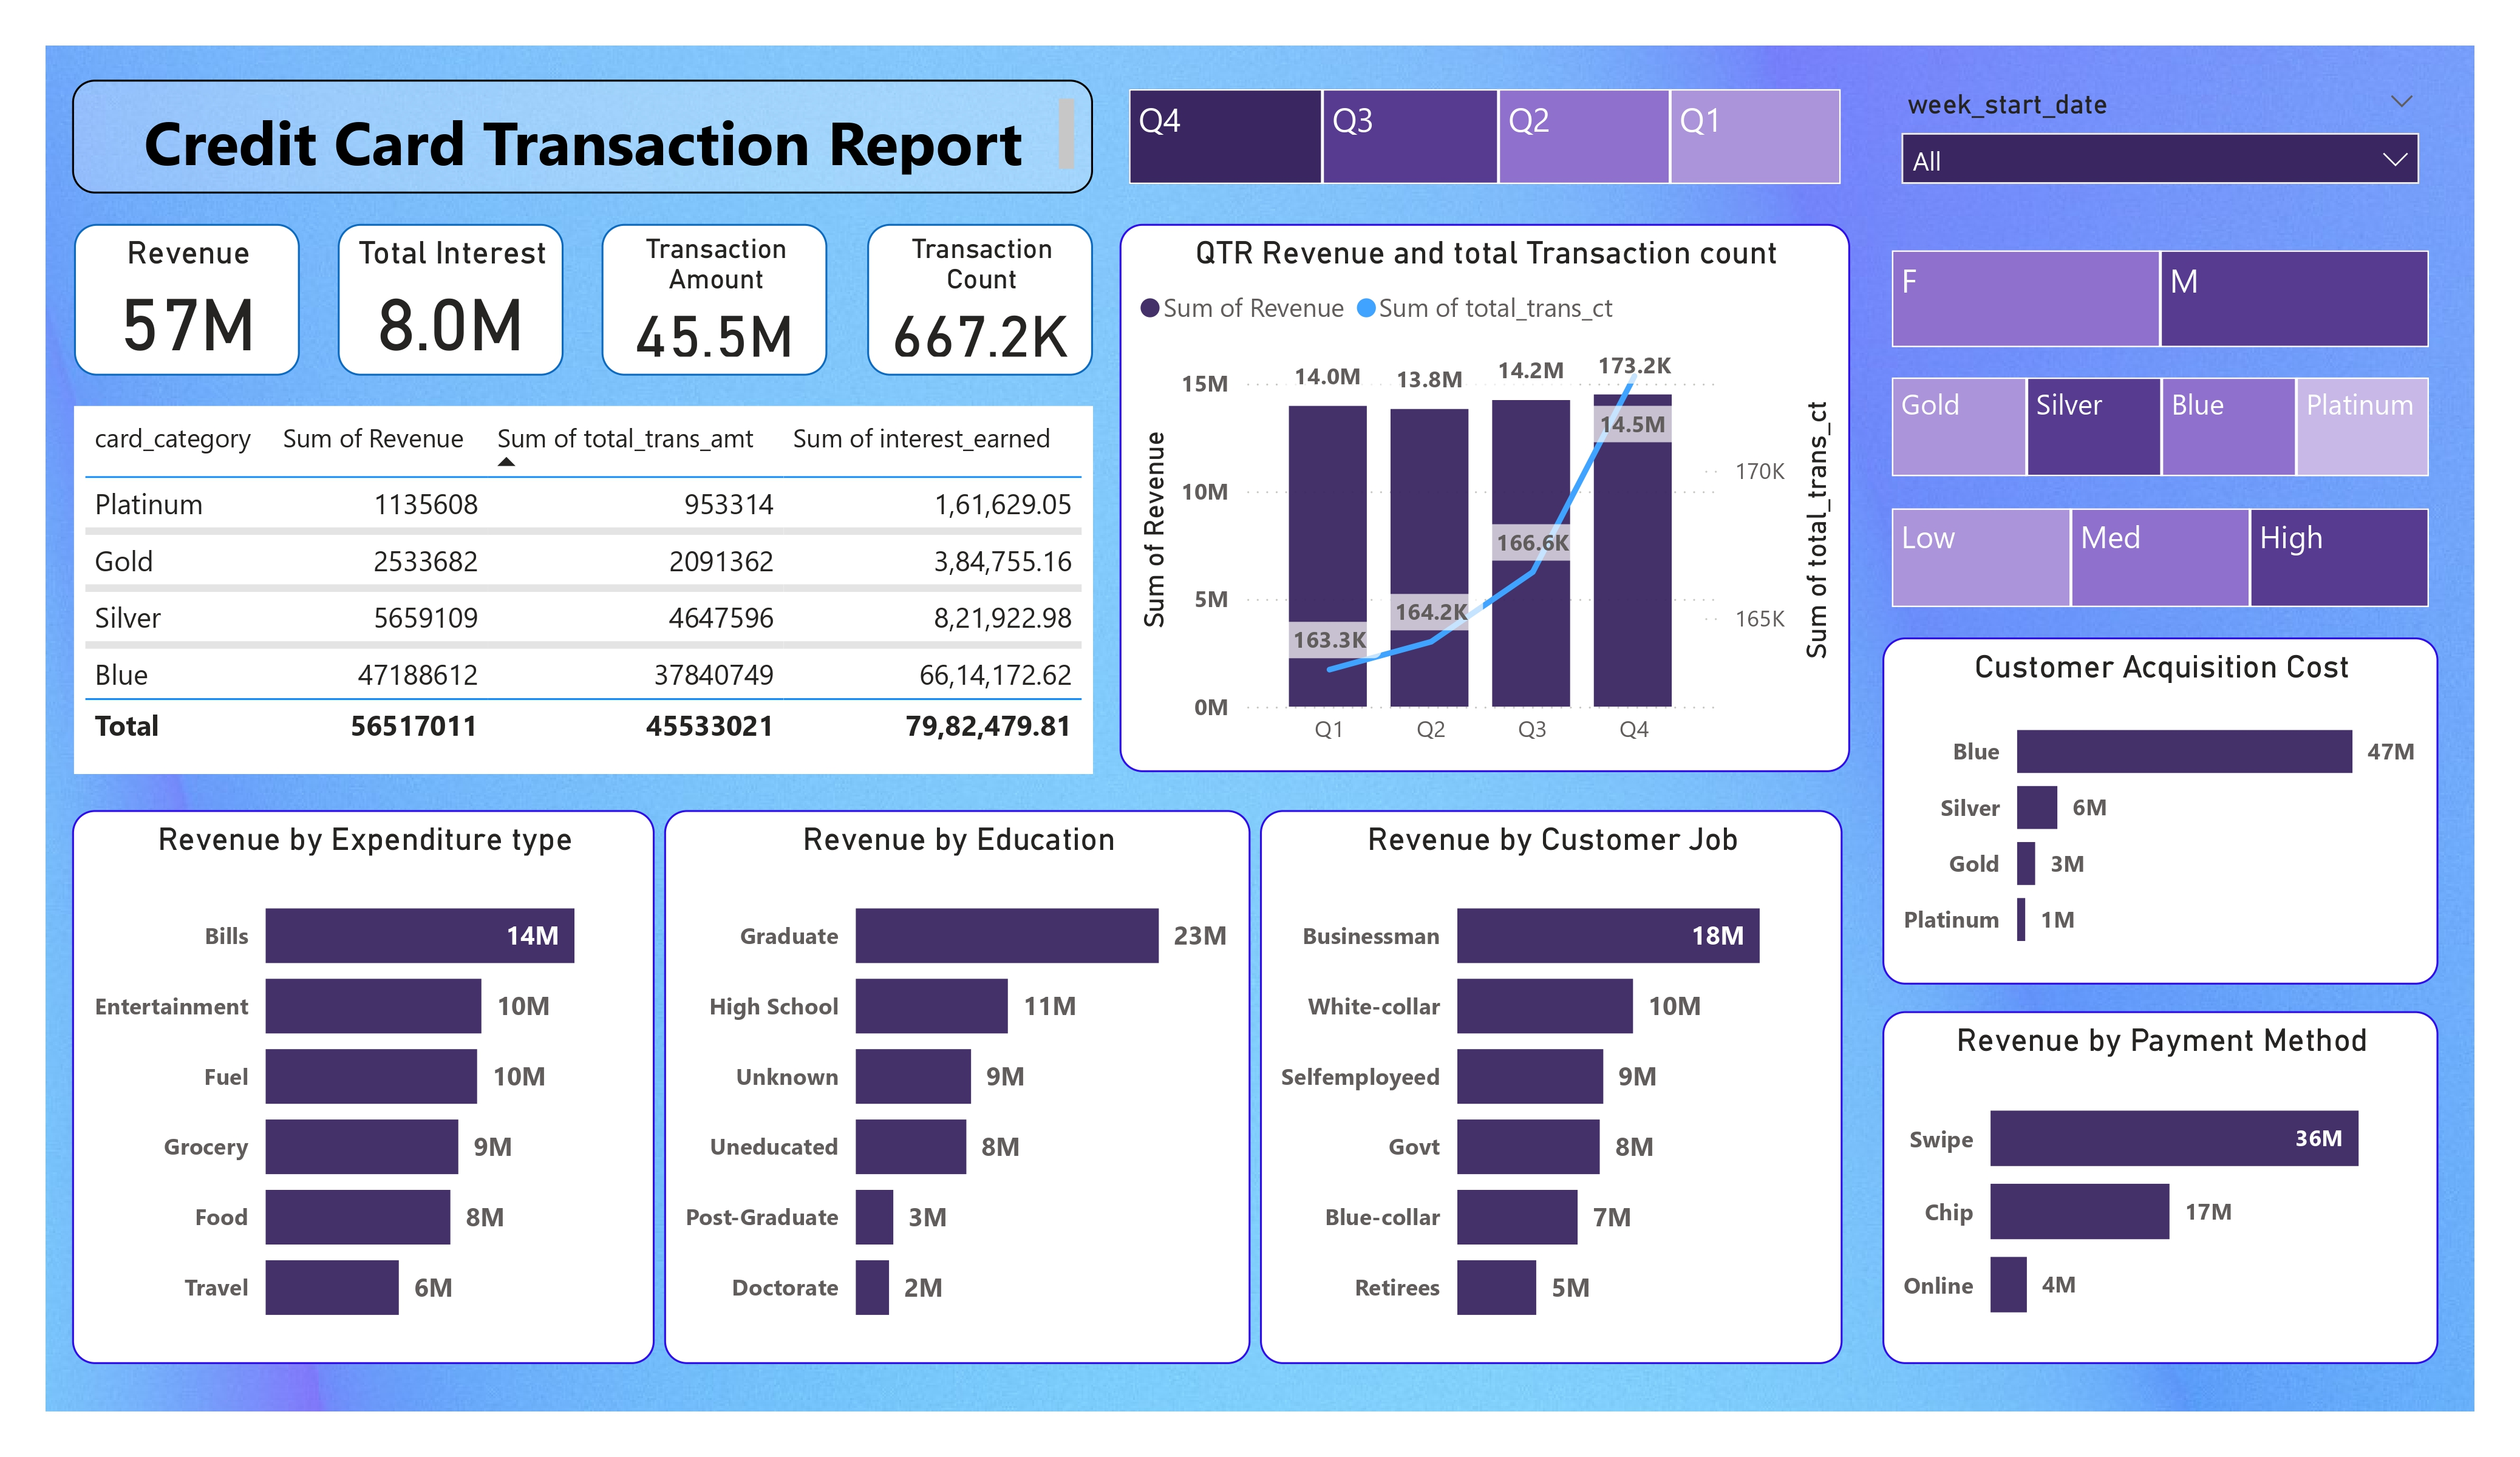

Layout of this report page (visuals, bound fields, positions):
{"tool":"powerbi","page":{"name":"CC Transaction Report","canvas":[1280,720],"ordinal":0},"visuals":[{"type":"textbox","box":[14.3,18.2,537.7,59.7],"z":0},{"type":"lineStackedColumnComboChart","title":"QTR Revenue and total Transaction count","fields":{"Category":["public cc_detail.qtr"],"Y":["Sum(public cc_detail.Revenue)"],"Y2":["Sum(public cc_detail.total_trans_ct)"]},"box":[566.2,93.5,384.4,289.6],"z":1000},{"type":"barChart","title":"Revenue by Expenditure type","fields":{"Y":["Sum(public cc_detail.Revenue)"],"Category":["public cc_detail.exp_type"]},"box":[14.3,402.6,307,292.2],"z":2000},{"type":"barChart","title":"Revenue by Education","fields":{"Y":["Sum(public cc_detail.Revenue)"],"Category":["public cust_detail.education_level"]},"box":[326,402.6,309,292.2],"z":3000},{"type":"barChart","title":"Revenue by Customer Job","fields":{"Y":["Sum(public cc_detail.Revenue)"],"Category":["public cust_detail.customer_job"]},"box":[640.3,402.6,307,292.2],"z":4000},{"type":"barChart","title":"Customer Acquisition Cost ","fields":{"Y":["Sum(public cc_detail.Revenue)"],"Category":["public cc_detail.card_category"]},"box":[967.5,311.7,293.5,183.1],"z":5000},{"type":"barChart","title":"Revenue by Payment Method","fields":{"Y":["Sum(public cc_detail.Revenue)"],"Category":["public cc_detail.use_chip"]},"box":[967.5,509.1,293.5,185.7],"z":6000},{"type":"tableEx","fields":{"Values":["public cc_detail.card_category","Sum(public cc_detail.Revenue)","Sum(public cc_detail.total_trans_amt)","Sum(public cc_detail.interest_earned)"]},"box":[14.6,190.2,537.8,193.9],"z":7000},{"type":"card","title":"Revenue","fields":{"Values":["Sum(public cc_detail.Revenue)"]},"box":[14.6,93.9,119.5,80.5],"z":8000},{"type":"card","title":"Transaction Amount","fields":{"Values":["Sum(public cc_detail.total_trans_amt)"]},"box":[292.7,93.9,119.5,80.5],"z":9000},{"type":"card","title":"Total Interest","fields":{"Values":["Sum(public cc_detail.interest_earned)"]},"box":[153.7,93.9,119.5,80.5],"z":10000},{"type":"card","title":"Transaction Count","fields":{"Values":["Sum(public cc_detail.total_trans_ct)"]},"box":[432.9,93.9,119.5,80.5],"z":11000},{"type":"slicer","fields":{"Values":["public cc_detail.week_start_date"]},"box":[967.5,18.2,293.5,75.3],"z":12000},{"type":"treemap","fields":{"Group":["public cc_detail.qtr"],"Values":["Avg(public cc_detail.client_num)"]},"box":[566.2,18.2,384.4,59.7],"z":13000},{"type":"treemap","fields":{"Group":["public cust_detail.gender"],"Values":["Avg(public cc_detail.client_num)"]},"box":[967.5,102.6,293.5,61],"z":14000},{"type":"treemap","fields":{"Values":["Avg(public cc_detail.client_num)"],"Group":["public cc_detail.card_category"]},"box":[967.5,170.1,293.5,62.3],"z":15000},{"type":"treemap","fields":{"Values":["Avg(public cc_detail.client_num)"],"Group":["public cust_detail.IncomeGroup"]},"box":[967.5,239,293.5,62.3],"z":16000}]}

Visuals, with their boxes in screenshot pixels (x1, y1, x2, y2):
textbox: {"left": 73, "top": 80, "right": 1093, "bottom": 193}
"QTR Revenue and total Transaction count" lineStackedColumnComboChart: {"left": 1120, "top": 223, "right": 1850, "bottom": 772}
"Revenue by Expenditure type" barChart: {"left": 73, "top": 809, "right": 655, "bottom": 1364}
"Revenue by Education" barChart: {"left": 664, "top": 809, "right": 1250, "bottom": 1364}
"Revenue by Customer Job" barChart: {"left": 1261, "top": 809, "right": 1843, "bottom": 1364}
"Customer Acquisition Cost " barChart: {"left": 1881, "top": 637, "right": 2439, "bottom": 984}
"Revenue by Payment Method" barChart: {"left": 1881, "top": 1011, "right": 2439, "bottom": 1364}
tableEx - public cc_detail.card_category x Sum(public cc_detail.Revenue): {"left": 73, "top": 406, "right": 1094, "bottom": 774}
"Revenue" card: {"left": 73, "top": 223, "right": 300, "bottom": 376}
"Transaction Amount" card: {"left": 601, "top": 223, "right": 828, "bottom": 376}
"Total Interest" card: {"left": 337, "top": 223, "right": 564, "bottom": 376}
"Transaction Count" card: {"left": 867, "top": 223, "right": 1094, "bottom": 376}
slicer - public cc_detail.week_start_date: {"left": 1881, "top": 80, "right": 2439, "bottom": 223}
treemap - public cc_detail.qtr x Avg(public cc_detail.client_num): {"left": 1120, "top": 80, "right": 1850, "bottom": 193}
treemap - public cust_detail.gender x Avg(public cc_detail.client_num): {"left": 1881, "top": 240, "right": 2439, "bottom": 356}
treemap - Avg(public cc_detail.client_num) x public cc_detail.card_category: {"left": 1881, "top": 368, "right": 2439, "bottom": 486}
treemap - Avg(public cc_detail.client_num) x public cust_detail.IncomeGroup: {"left": 1881, "top": 499, "right": 2439, "bottom": 617}
